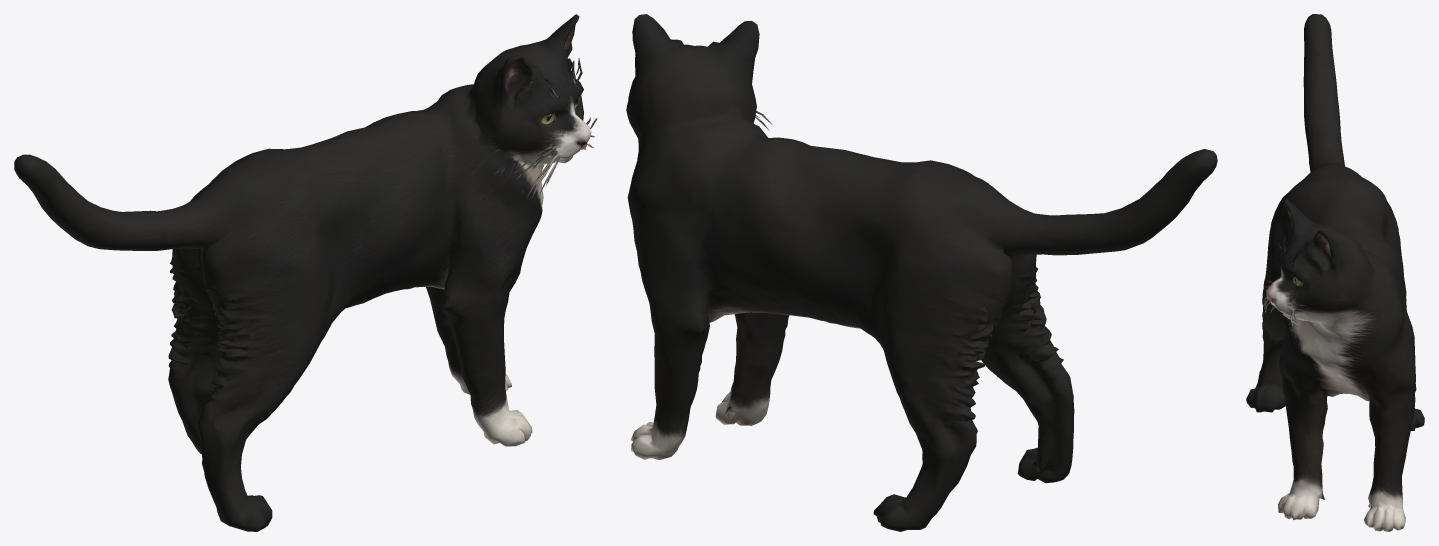
The model's file is UNSINKSAM.glb.
The picture shows the model from 3 angles, left to right: view 1: azimuth 30°, elevation 25°; view 2: azimuth 150°, elevation 25°; view 3: azimuth 270°, elevation 25°; orthographic projection. The views are drawn at different scales.
Visible parts, largest first — view 1: tripo_node_25c0ba85-0a4f-4d97-94f7-7d4d0dc537d8; view 2: tripo_node_25c0ba85-0a4f-4d97-94f7-7d4d0dc537d8; view 3: tripo_node_25c0ba85-0a4f-4d97-94f7-7d4d0dc537d8.
Boxes of the visible parts, x1,y1,x2,y2 form: tripo_node_25c0ba85-0a4f-4d97-94f7-7d4d0dc537d8: (14, 14, 597, 531); tripo_node_25c0ba85-0a4f-4d97-94f7-7d4d0dc537d8: (626, 14, 1217, 531); tripo_node_25c0ba85-0a4f-4d97-94f7-7d4d0dc537d8: (1246, 14, 1424, 531).
Size of the model in its own units: 1.52 by 1 by 0.5068.
1 material, 1 textured.
